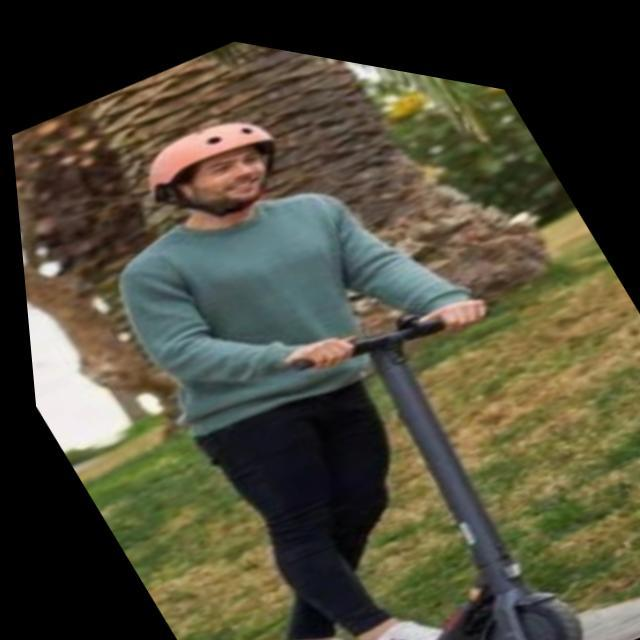Helmet: (140, 119, 284, 225)
